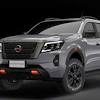Nissan: (1, 17, 100, 83)
